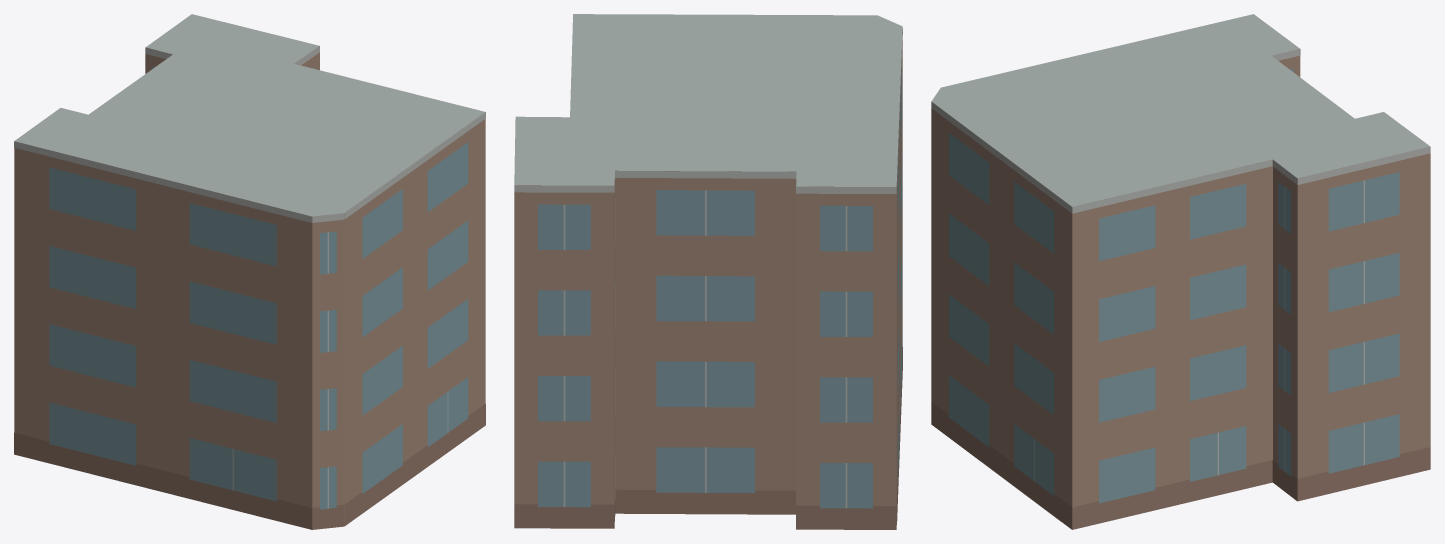
File: survey-upis-32676265.glb
The picture shows the model from 3 angles, left to right: view 1: azimuth 30°, elevation 25°; view 2: azimuth 150°, elevation 25°; view 3: azimuth 270°, elevation 25°; orthographic projection. The views are drawn at different scales.
Visible parts, largest first — view 1: survey-upis-32676265.tmp; view 2: survey-upis-32676265.tmp; view 3: survey-upis-32676265.tmp.
Part boxes in pixels (x1,y1,x2,y2): survey-upis-32676265.tmp: [14, 14, 485, 529]; survey-upis-32676265.tmp: [514, 14, 902, 529]; survey-upis-32676265.tmp: [931, 14, 1430, 529].
Size of the model in its own units: 15.14 by 11.81 by 16.56.
